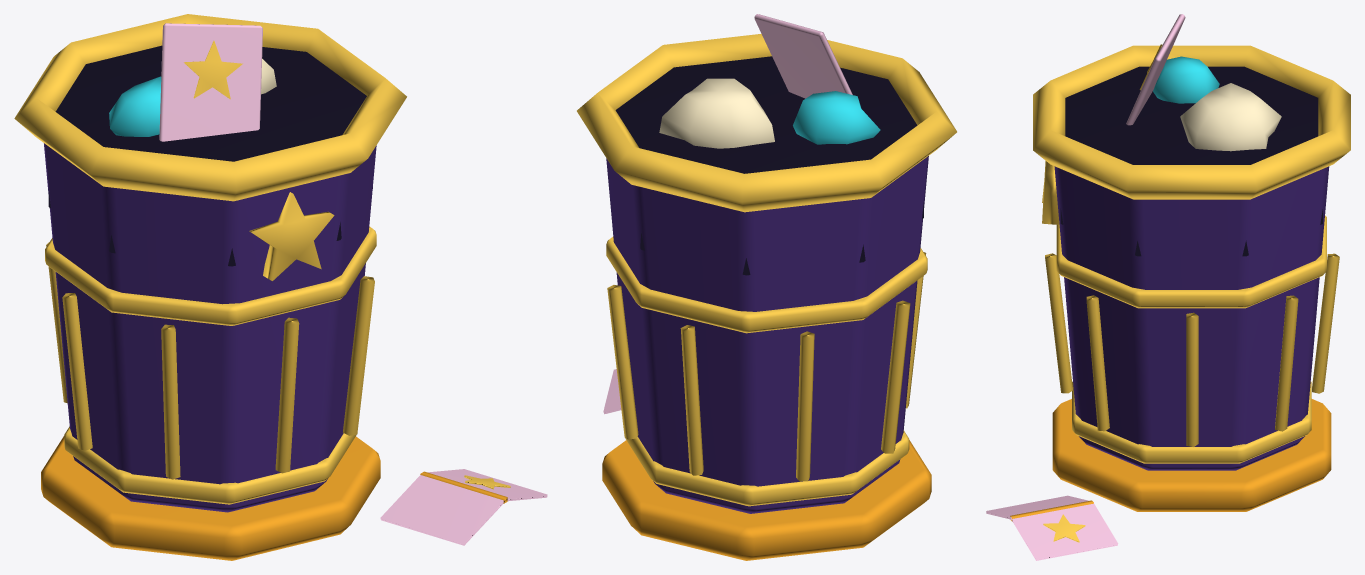
The model's file is trash_can_marquee.glb.
The picture shows the model from 3 angles, left to right: view 1: azimuth 30°, elevation 25°; view 2: azimuth 150°, elevation 25°; view 3: azimuth 270°, elevation 25°; orthographic projection. The views are drawn at different scales.
Parts seen in each view (by area): view 1: Bin; view 2: Bin; view 3: Bin.
Part boxes in pixels (left/top/right/bottom): Bin: left=14, top=14, right=547, bottom=560; Bin: left=577, top=14, right=956, bottom=560; Bin: left=986, top=14, right=1350, bottom=560.
Size of the model in its own units: 0.7285 by 0.8324 by 0.6528.
